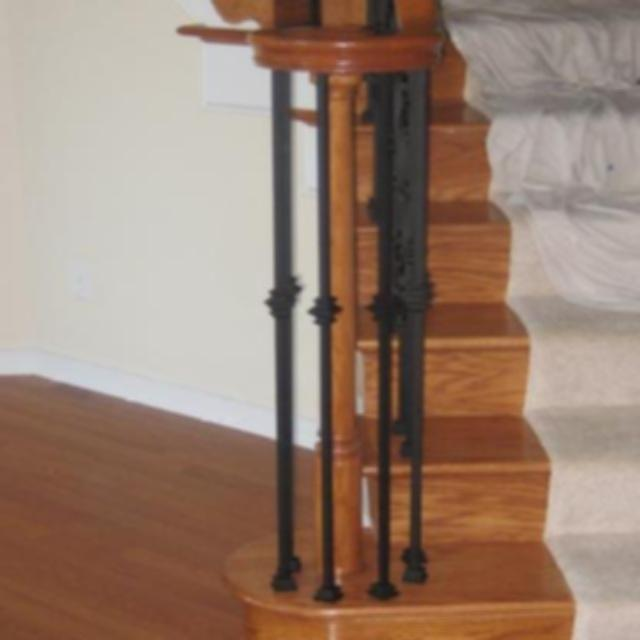stair: (176, 0, 640, 640)
